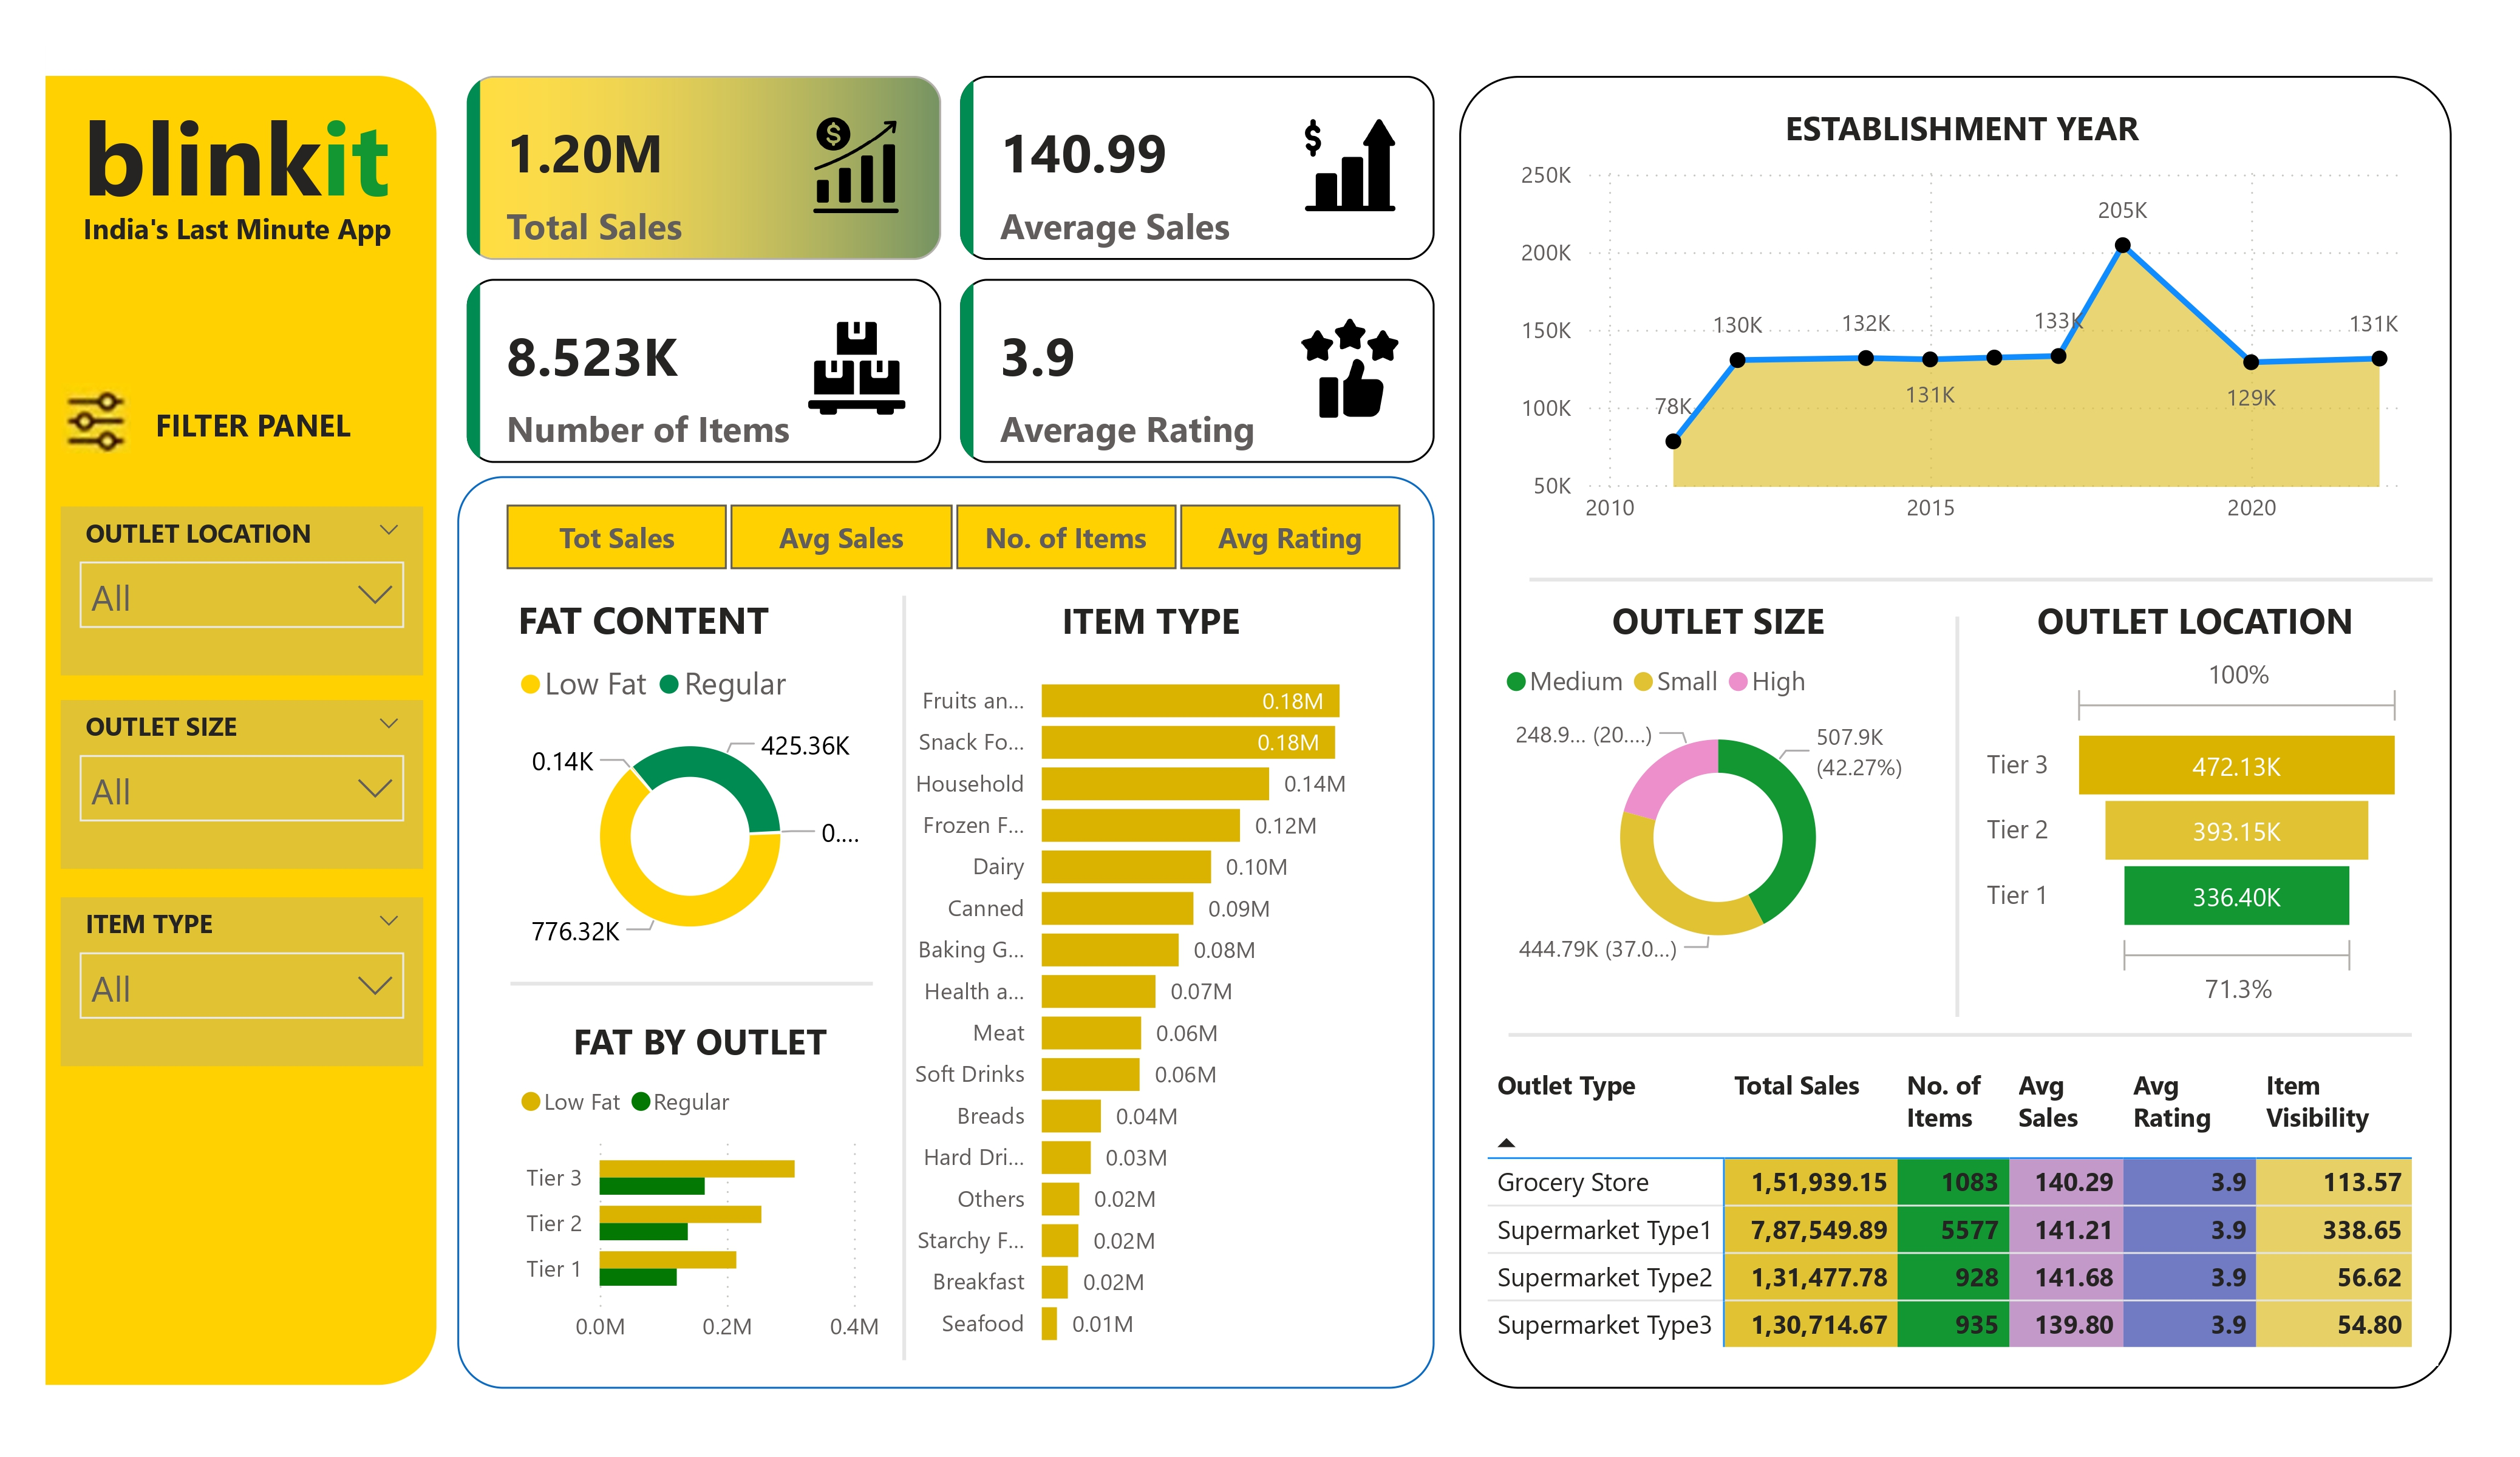

Layout of this report page (visuals, bound fields, positions):
{"tool":"powerbi","page":{"name":"Grocery Data","canvas":[1280,720],"ordinal":0},"visuals":[{"type":"shape","box":[0,16.2,205.6,689.8],"z":0},{"type":"cardVisual","fields":{"Data":["Grocery Data.Total Sales","Grocery Data.Average Sales","Grocery Data.Number of Items","Grocery Data.Average Rating"]},"box":[217,11.3,521.4,215.4],"z":1000},{"type":"shape","box":[217,226.7,515,480.9],"z":2000},{"type":"slicer","fields":{"Values":["Metrics.Metrics"]},"box":[217,234.8,521.4,48],"z":3000},{"type":"donutChart","title":"FAT CONTENT","fields":{"Y":["Grocery Data.Total Sales","Grocery Data.Average Sales","Grocery Data.Number of Items","Grocery Data.Average Rating"],"Category":["Grocery Data.Item Fat Content"]},"box":[244.5,288.3,191.4,198.3],"z":4000},{"type":"barChart","title":"ITEM TYPE","fields":{"Category":["Grocery Data.Item Type"],"Y":["Sum(Grocery Data.Sales)"]},"box":[441,289.8,283,406.4],"z":5000},{"type":"shape","box":[744.8,16.2,523,691.4],"z":6000},{"type":"lineChart","title":"ESTABLISHMENT YEAR","fields":{"Category":["Grocery Data.Outlet Establishment Year"],"Y":["Sum(Grocery Data.Sales)"]},"box":[772.4,30.8,476.1,231.5],"z":7000},{"type":"clusteredBarChart","title":"FAT BY OUTLET","fields":{"Y":["Grocery Data.Total Sales"],"Series":["Grocery Data.Item Fat Content"],"Category":["Grocery Data.Outlet Location Type"]},"box":[244.5,511.7,200.8,181.4],"z":8000},{"type":"donutChart","title":"OUTLET SIZE","fields":{"Y":["Sum(Grocery Data.Sales)"],"Category":["Grocery Data.Outlet Size"]},"box":[764,289.8,234.8,200.8],"z":9000},{"type":"funnel","title":"OUTLET LOCATION","fields":{"Y":["Sum(Grocery Data.Sales)"],"Category":["Grocery Data.Outlet Location Type"]},"box":[1018.5,289.8,229.9,221.8],"z":10000},{"type":"pivotTable","fields":{"Rows":["Grocery Data.Outlet Type"],"Values":["Grocery Data.Total Sales","Grocery Data.Number of Items","Grocery Data.Average Sales","Grocery Data.Average Rating","Sum(Grocery Data.Item Visibility)"]},"box":[754.6,531.1,506.8,165.2],"z":11000},{"type":"shape","box":[244.5,458.2,191.1,72.9],"z":12000},{"type":"shape","box":[357,289.8,191.1,403.2],"z":13000},{"type":"shape","box":[770.8,485,476.1,72.9],"z":14000},{"type":"shape","box":[782.4,244.8,476.1,72.9],"z":15000},{"type":"shape","box":[911.6,301.2,191.1,210.5],"z":16000},{"type":"textbox","box":[14.6,16.2,184.6,89.1],"z":17000},{"type":"textbox","box":[14.6,81,184.6,47],"z":18000},{"type":"textbox","box":[53.4,187.8,131.2,32.4],"z":19000},{"type":"image","box":[0,173.3,53.4,47],"z":20000},{"type":"slicer","fields":{"Values":["Grocery Data.Outlet Location Type"]},"box":[8.1,242.9,191.1,89.1],"z":21000},{"type":"slicer","fields":{"Values":["Grocery Data.Outlet Size"]},"box":[8.1,344.9,191.1,89.1],"z":22000},{"type":"slicer","fields":{"Values":["Grocery Data.Item Type"]},"box":[8.1,448.5,191.1,89.1],"z":23000}]}

Visuals, with their boxes in screenshot pixels (x1, y1, x2, y2):
shape: box=[46, 76, 436, 1385]
cardVisual - Grocery Data.Total Sales x Grocery Data.Average Sales: box=[457, 67, 1446, 475]
shape: box=[457, 475, 1434, 1388]
slicer - Metrics.Metrics: box=[457, 491, 1446, 582]
"FAT CONTENT" donutChart: box=[509, 593, 873, 969]
"ITEM TYPE" barChart: box=[882, 596, 1420, 1367]
shape: box=[1459, 76, 2451, 1388]
"ESTABLISHMENT YEAR" lineChart: box=[1511, 104, 2415, 543]
"FAT BY OUTLET" clusteredBarChart: box=[509, 1016, 891, 1360]
"OUTLET SIZE" donutChart: box=[1495, 596, 1941, 976]
"OUTLET LOCATION" funnel: box=[1978, 596, 2414, 1016]
pivotTable - Grocery Data.Outlet Type x Grocery Data.Total Sales: box=[1477, 1053, 2439, 1367]
shape: box=[509, 915, 872, 1053]
shape: box=[723, 596, 1086, 1360]
shape: box=[1508, 966, 2412, 1104]
shape: box=[1530, 510, 2434, 648]
shape: box=[1776, 617, 2138, 1016]
textbox: box=[73, 76, 424, 245]
textbox: box=[73, 199, 424, 288]
textbox: box=[147, 402, 396, 463]
image: box=[46, 375, 147, 463]
slicer - Grocery Data.Outlet Location Type: box=[61, 506, 424, 675]
slicer - Grocery Data.Outlet Size: box=[61, 700, 424, 869]
slicer - Grocery Data.Item Type: box=[61, 897, 424, 1065]
